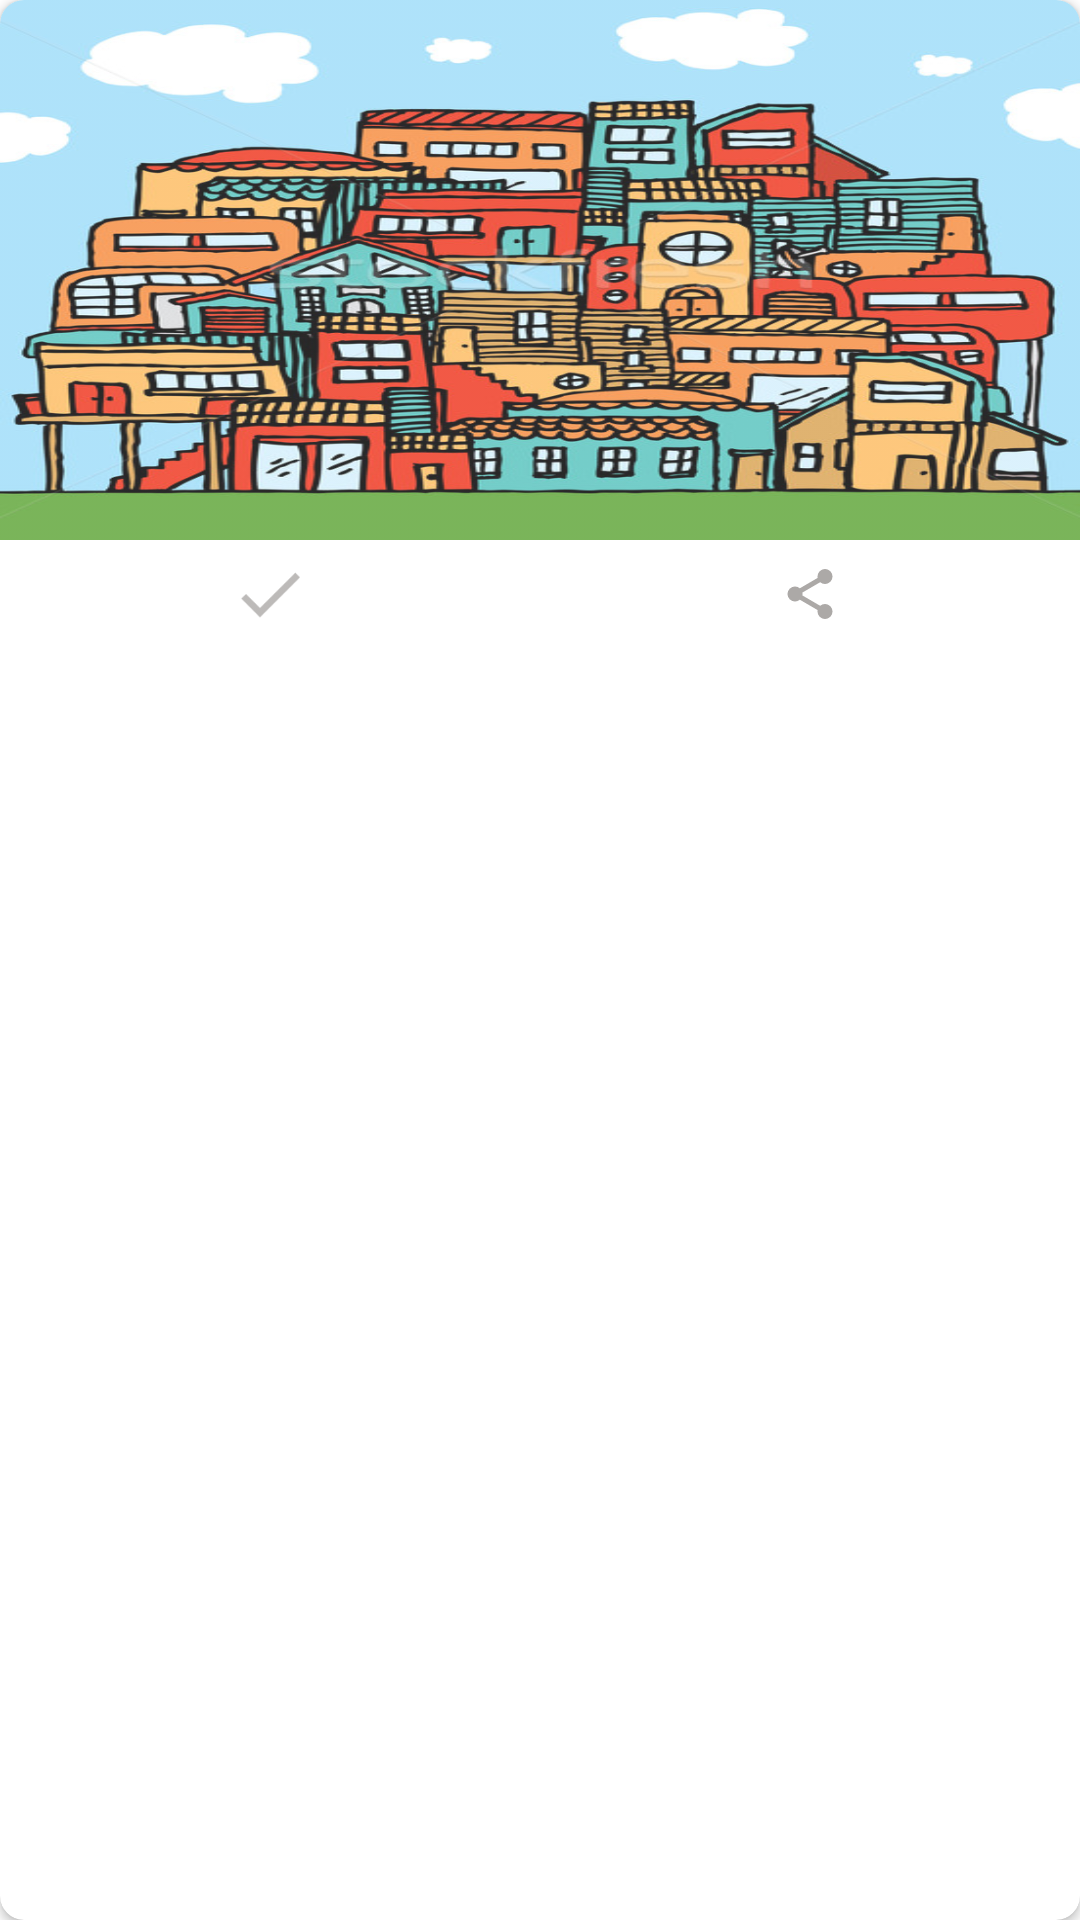

Locate icon controls on the screen. Image size 1080 x 1920, boxes as (x1, y1, x2, y2).
compartilhar: (787, 569, 833, 619)
